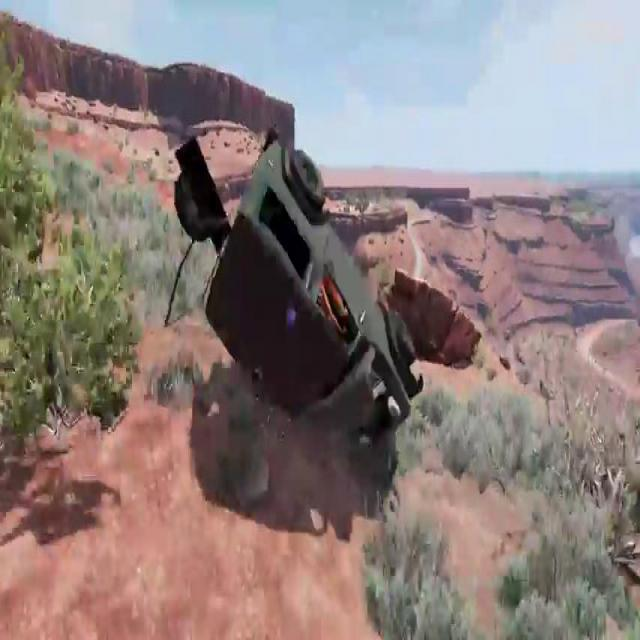accident: (172, 117, 424, 456)
